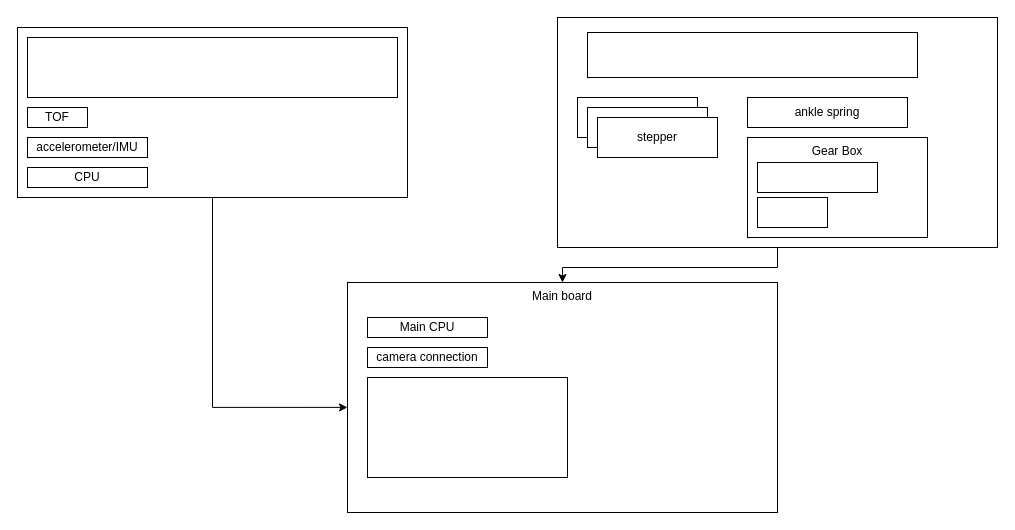
Image size: 1015x530. Some labels were removed from this diagram. The shapes that lost their labels are listed below. From the top down, each one's centre as x and y in pixels, then its label:
At point 212,67: "Spinning plate Module".
At point 752,55: "Leg Motion".
At point 817,177: "Planetary gear box".
At point 792,212: "gear shift".
At point 467,427: "PSU".
